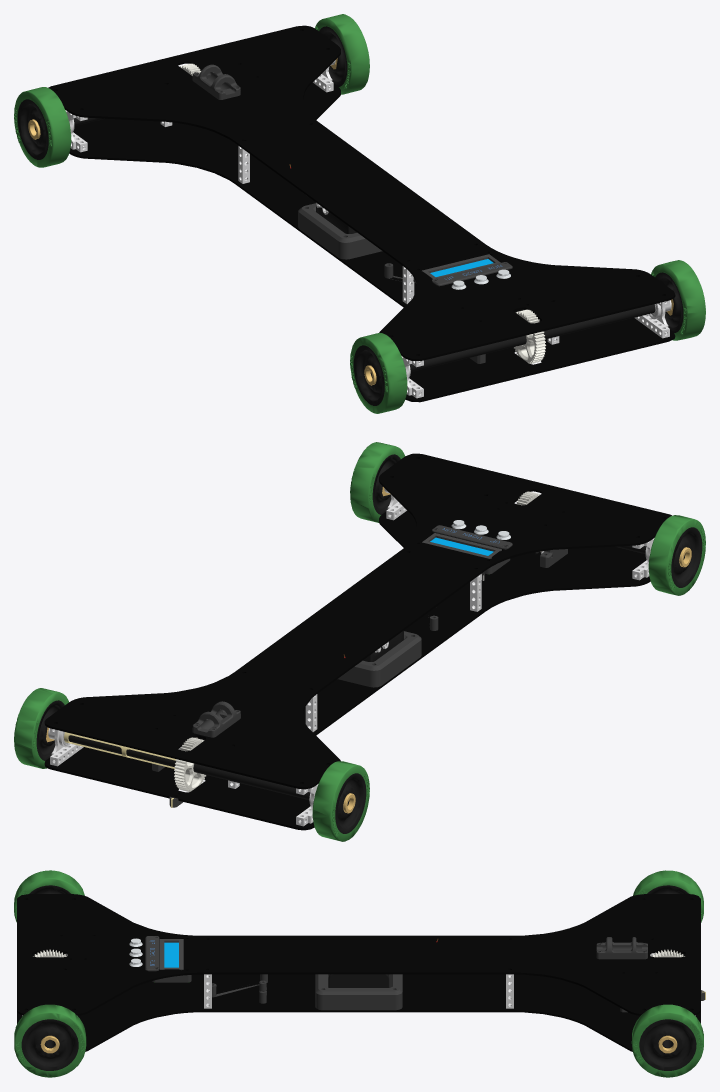
File: prototype.glb
The picture shows the model from 3 angles, top to bottom: view 1: azimuth 30°, elevation 25°; view 2: azimuth 150°, elevation 25°; view 3: azimuth 270°, elevation 25°; orthographic projection. The views are drawn at different scales.
Visible parts, largest first — view 1: anim_ev1_12__0_1_1_98_, object 28, object 7, object 1, anim_ev1_0_Carbon_Fiber_Axle_Rod_346mm_Long_8mm_OD_v3_1_1, anim_ev1_10_Spur_Gear_48_teeth_1, anim_ev1_4_LCD_screen_1; view 2: anim_ev1_12__0_1_1_98_, object 28, object 7, object 1, anim_ev1_7_Carbon_Fiber_Axle_Rod_346mm_Long_8mm_OD_v3_1, anim_ev1_4_LCD_screen_1, anim_ev1_11_Spur_Gear_48_teeth_2; view 3: anim_ev1_12__0_1_1_98_, object 28, object 7, anim_ev1_4_LCD_screen_1, object 1, object 27.
Part boxes in pixels (x1,y1,x2,y2): anim_ev1_12__0_1_1_98_: (48,25,675,402); object 28: (14,14,705,413); object 7: (17,26,683,405); object 1: (65,60,671,398); anim_ev1_0_Carbon_Fiber_Axle_Rod_346mm_Long_8mm_OD_v3_1_1: (370,304,655,378); anim_ev1_10_Spur_Gear_48_teeth_1: (514,309,546,363); anim_ev1_4_LCD_screen_1: (421,254,500,279); anim_ev1_12__0_1_1_98_: (44,453,671,830); object 28: (14,442,705,841); object 7: (36,454,702,833); object 1: (48,488,654,826); anim_ev1_7_Carbon_Fiber_Axle_Rod_346mm_Long_8mm_OD_v3_1: (68,735,349,805); anim_ev1_4_LCD_screen_1: (422,533,501,558); anim_ev1_11_Spur_Gear_48_teeth_2: (174,737,206,791); anim_ev1_12__0_1_1_98_: (17,894,700,1051); object 28: (14,870,703,1077); object 7: (21,885,696,1070); anim_ev1_4_LCD_screen_1: (159,939,183,970); object 1: (22,953,695,1015); object 27: (40,1035,677,1053).
Size of the model in its own units: 0.341 by 0.0765 by 0.698.
